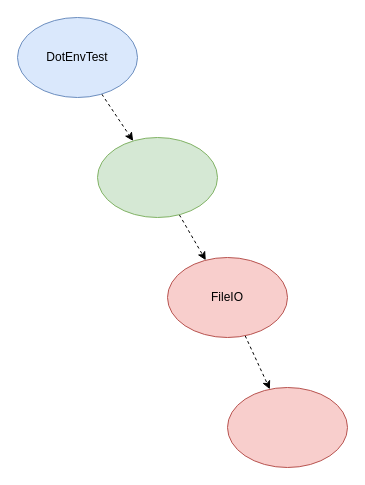
Some shapes in this 365 by 485 pixel diagram are drawn without their labels. The shapes that lost their labels are listed below. From the top down, each one's centre as x and y in pixels, then its label:
At point (157, 177): "DotEnv".
At point (287, 427): "java.nio.file.Files".
